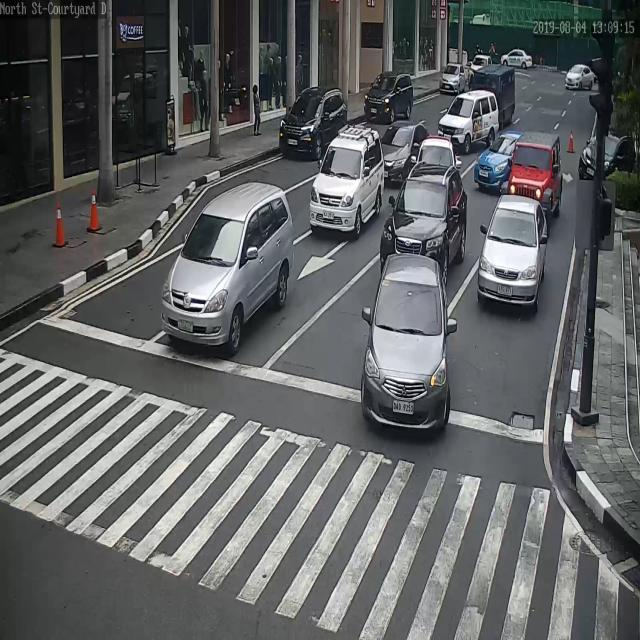bus: (468, 66, 516, 128)
car: (161, 184, 295, 352), (359, 258, 456, 429), (381, 162, 468, 277), (308, 127, 386, 233), (476, 192, 548, 305), (279, 85, 350, 159), (437, 90, 501, 148), (473, 130, 523, 192), (380, 122, 429, 181), (578, 130, 637, 179), (362, 72, 415, 123), (410, 136, 460, 178), (439, 61, 467, 93), (565, 64, 594, 90), (501, 49, 533, 69), (470, 55, 495, 77)
tricycle: (503, 133, 564, 216)
